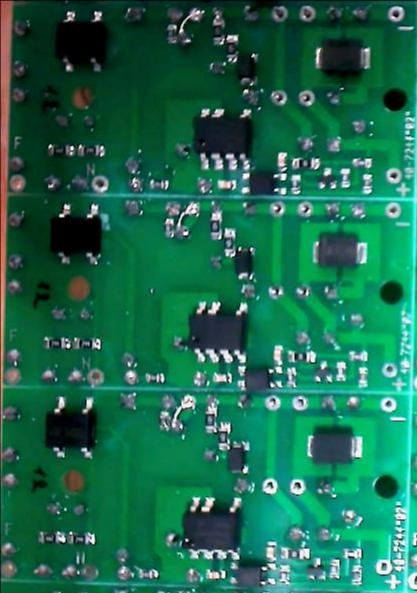chip-capacitor: (264, 540, 277, 563), (205, 568, 227, 581), (211, 371, 233, 384), (275, 151, 288, 172), (216, 179, 237, 191), (273, 344, 283, 366)
chip-resistor: (279, 545, 312, 561), (67, 529, 98, 546), (203, 402, 218, 433), (72, 336, 103, 351), (224, 33, 239, 63), (37, 530, 65, 546), (43, 335, 71, 351), (223, 226, 237, 258), (287, 349, 316, 364), (291, 156, 320, 171), (76, 143, 105, 158), (46, 142, 75, 157), (209, 211, 223, 241), (217, 422, 231, 451), (212, 18, 225, 46), (136, 566, 160, 581), (328, 557, 341, 580), (144, 372, 167, 385), (341, 546, 363, 559), (361, 173, 374, 195), (278, 563, 290, 586), (286, 366, 298, 389), (162, 217, 174, 240), (350, 565, 363, 586), (347, 349, 368, 362), (352, 156, 373, 169), (289, 173, 301, 195), (148, 179, 170, 191), (339, 168, 351, 189), (158, 411, 169, 433), (358, 366, 369, 388), (335, 360, 346, 382), (165, 23, 177, 43)
diode: (305, 427, 364, 465), (312, 233, 368, 270), (313, 39, 372, 74), (226, 439, 249, 476), (236, 50, 258, 85), (235, 245, 255, 282)
ic: (180, 495, 244, 561), (187, 299, 250, 364), (191, 106, 253, 171), (49, 200, 104, 266), (44, 393, 98, 460), (55, 9, 107, 73), (228, 560, 277, 586), (236, 365, 283, 392), (240, 172, 288, 197)
transistor: (306, 556, 327, 582), (312, 360, 333, 385), (317, 166, 338, 191)
